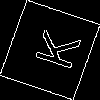K: (24, 25, 81, 72)
